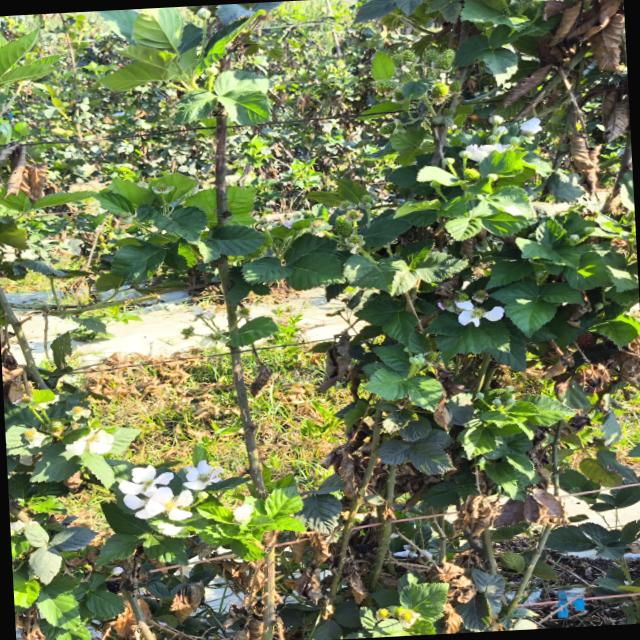boton: (489, 115, 504, 125), (459, 150, 471, 159), (497, 126, 507, 136), (487, 173, 499, 181), (444, 158, 455, 166), (510, 137, 520, 145)
flor: (119, 465, 174, 496), (145, 487, 193, 521), (66, 430, 114, 456), (184, 460, 223, 491), (456, 302, 504, 327), (465, 144, 509, 163), (233, 504, 254, 523), (124, 494, 148, 510), (521, 118, 543, 134)
